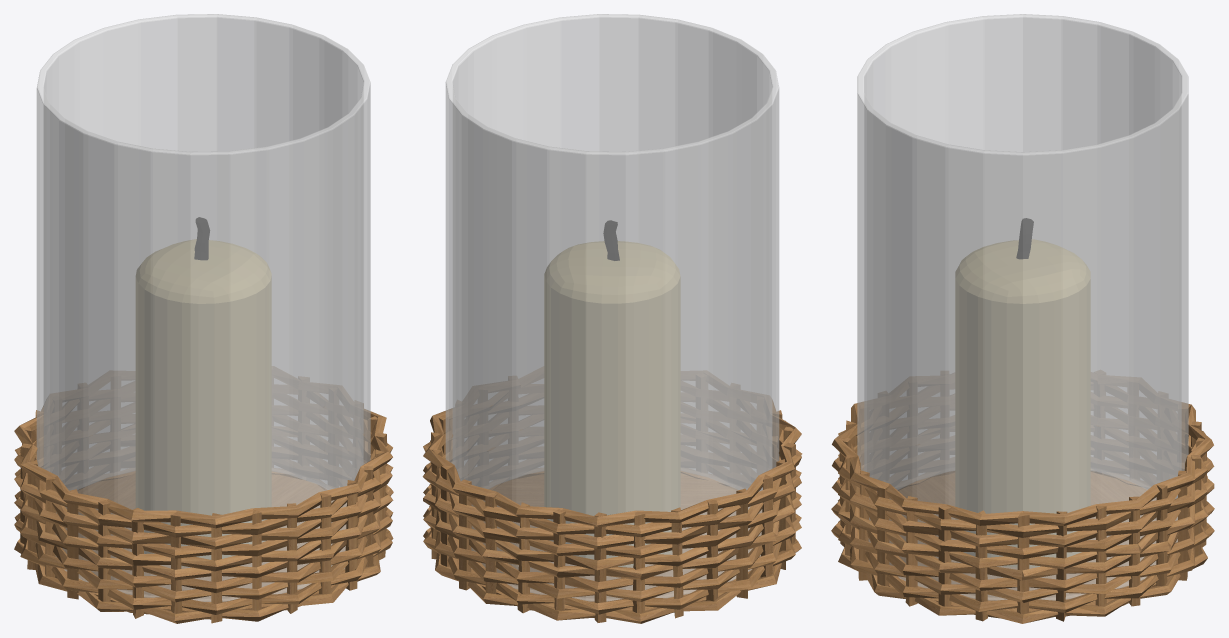
Rendered from big-candle.obj.
3 views of the same model, side by side, from view 1: azimuth 30°, elevation 25°; view 2: azimuth 150°, elevation 25°; view 3: azimuth 270°, elevation 25° (orthographic).
Visible parts, largest first — view 1: Object001, Cylinder004, Object002, Line001; view 2: Object001, Cylinder004, Object002; view 3: Object001, Cylinder004, Object002.
Part boxes in pixels (<box>): Object001: <box>36,14,370,601</box>; Cylinder004: <box>14,403,393,623</box>; Object002: <box>136,239,271,566</box>; Line001: <box>194,217,209,259</box>; Object001: <box>445,14,779,601</box>; Cylinder004: <box>422,385,802,623</box>; Object002: <box>544,241,680,566</box>; Object001: <box>857,14,1188,600</box>; Cylinder004: <box>831,380,1214,623</box>; Object002: <box>955,239,1090,567</box>.
Size of the model in its own units: 14.91 by 20.04 by 15.07.
Materials: 4 (1 with a texture image).
